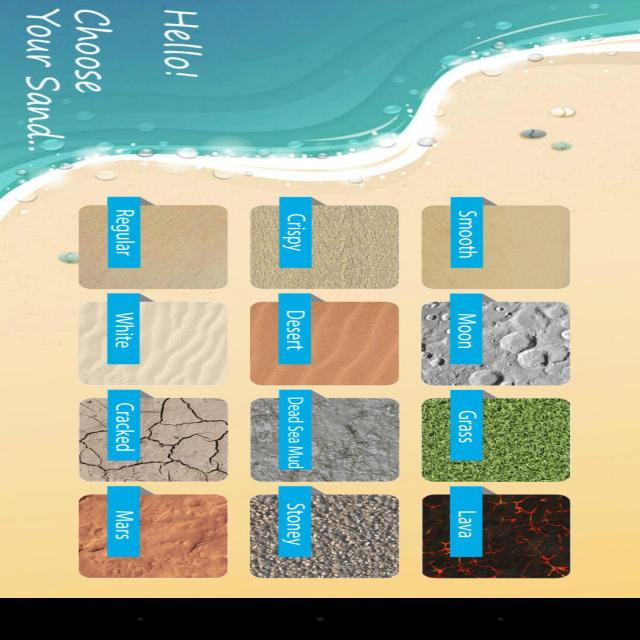icon: (52, 181, 589, 588)
text: (10, 4, 233, 157)
